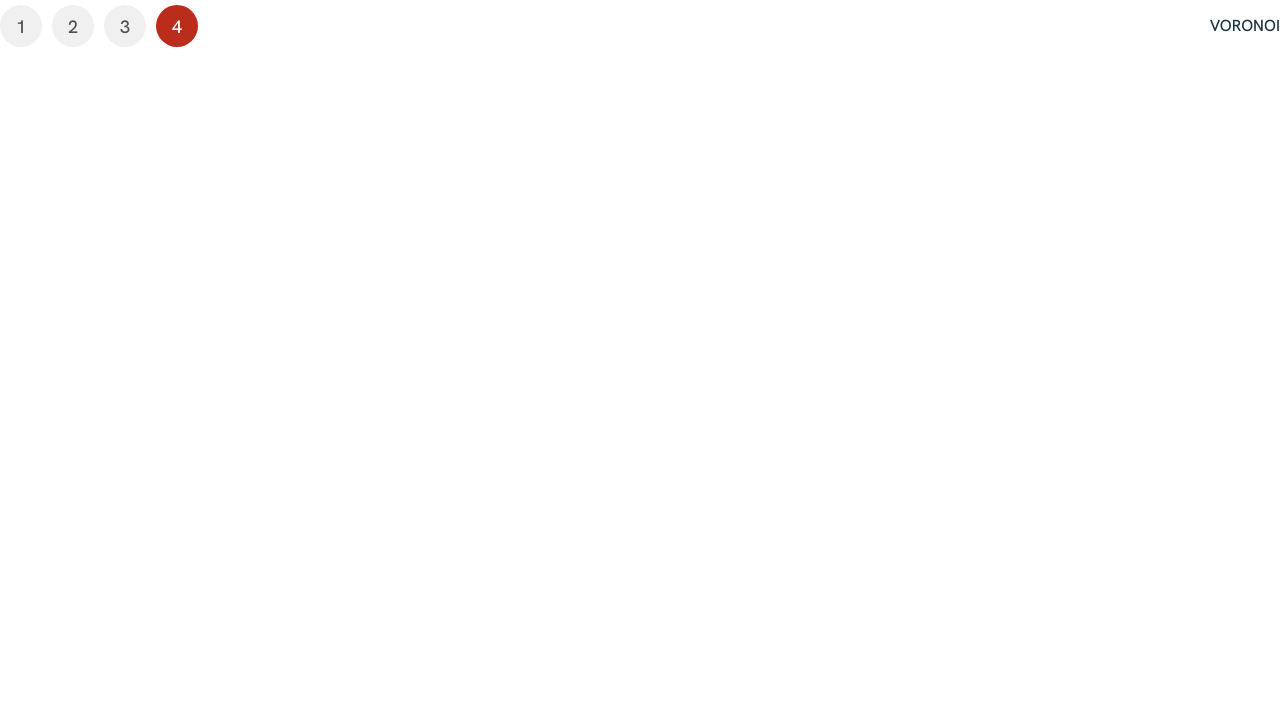
Scenario: ShapeTypeSelector › updates shape type to rectangle on button 1 click
Click the button with test id "button-1" at (21, 26), box x1=0 y1=5 x2=42 y2=47
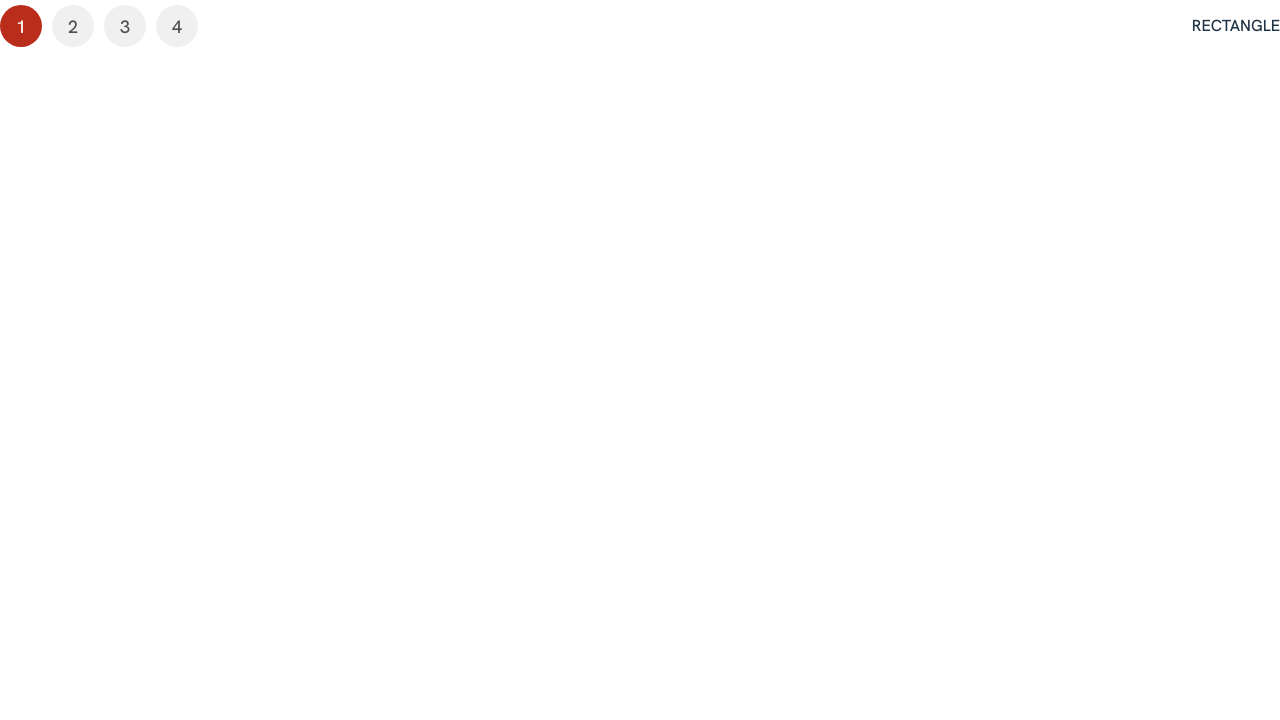
Now the text with class "shape-type" reads "rectangle", box x1=1192 y1=15 x2=1279 y2=36
